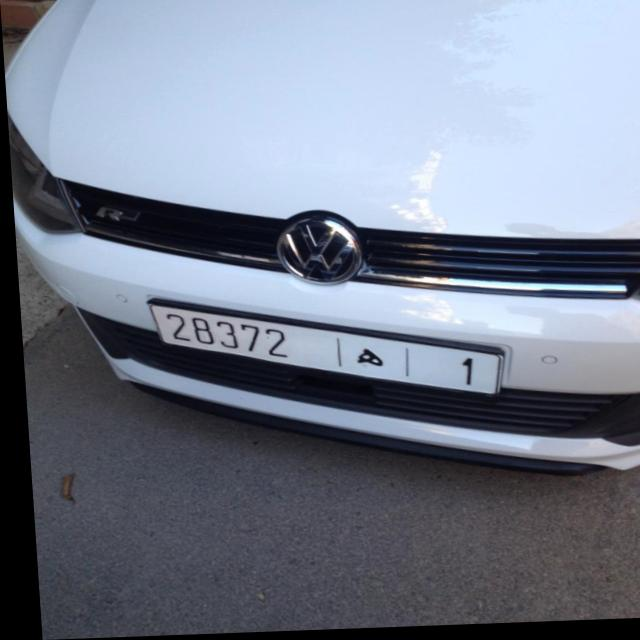License-Plate: (146, 305, 496, 398)
